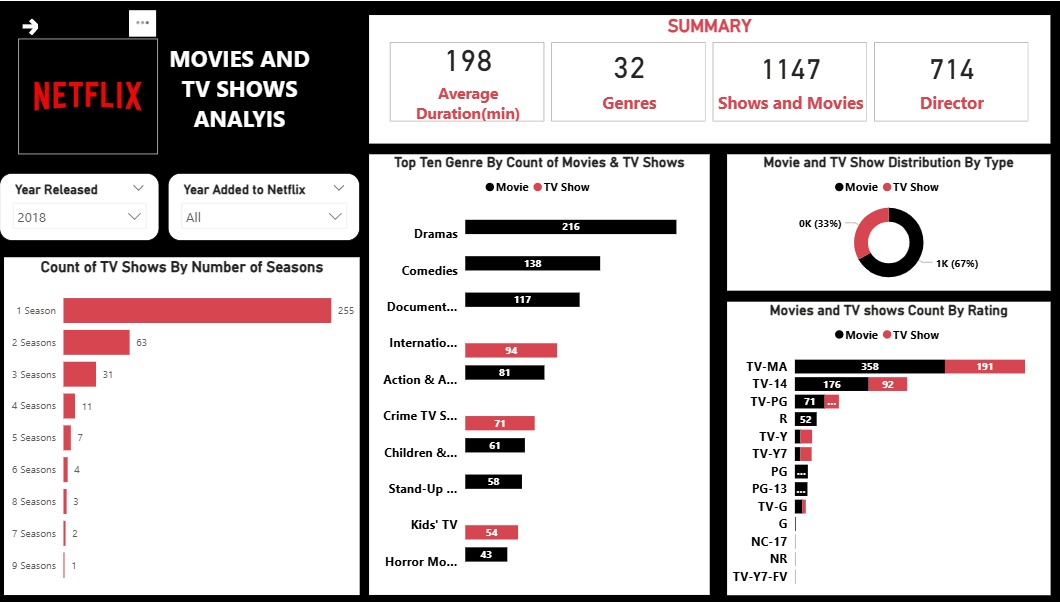

This screenshot's page, from the dashboard's own definition file:
{"tool":"powerbi","page":{"name":"Page 1","canvas":[1400,800],"ordinal":0},"visuals":[{"type":"textbox","box":[430,10,962.9,168.6],"z":0},{"type":"barChart","title":"Count of TV Shows By Number of Seasons","fields":{"Category":["netflix_titles.duration"],"Series":["netflix_titles.type"],"Y":["CountNonNull(netflix_titles.title)"]},"box":[9.2,341.5,407.7,446.2],"z":1000},{"type":"barChart","fields":{"Series":["netflix_titles.type"],"Category":["netflix_titles.listed_in"],"Y":["CountNonNull(netflix_titles.title)"]},"box":[430,190,481.4,598.6],"z":2000},{"type":"card","title":"Average Duration(Min)","fields":{"Values":["Avg(netflix_titles.Duration (Minutes))"]},"box":[452.4,59,225,105],"z":3000},{"type":"barChart","fields":{"Category":["netflix_titles.rating"],"Series":["netflix_titles.type"],"Y":["CountNonNull(netflix_titles.title)"]},"box":[923.9,400,469,385.9],"z":4000},{"type":"slicer","fields":{"Values":["netflix_titles.release_year"]},"box":[9.2,244.6,189.2,87.7],"z":5000},{"type":"slicer","fields":{"Values":["netflix_titles.date_added"]},"box":[203.1,244.6,213.8,87.7],"z":6000},{"type":"donutChart","fields":{"Y":["netflix_titles.Total Movies and Tv Shows"],"Category":["netflix_titles.type"]},"box":[923.9,188.7,469,201.4],"z":7000},{"type":"card","title":"Genres","fields":{"Values":["Count(netflix_titles.listed_in)"]},"box":[685.8,59,225,105],"z":8000},{"type":"card","title":"Shows and Movies","fields":{"Values":["netflix_titles.Total Movies and Tv Shows"]},"box":[920.8,59,225,105],"z":9000},{"type":"card","title":"Directors","fields":{"Values":["Count(netflix_titles.director)"]},"box":[1154.1,59,225,105],"z":10000},{"type":"image","box":[16.9,38.5,173.8,150.8],"z":11000},{"type":"textbox","box":[170.8,58.5,246.2,172.3],"z":12000},{"type":"actionButton","box":[17.1,10,50,48.6],"z":13000}]}

Visuals, with their boxes in screenshot pixels (x1, y1, x2, y2), scaled from the page's 1400x800 canvas onto the 1060x602 screenshot:
textbox: [326,8,1055,134]
"Count of TV Shows By Number of Seasons" barChart: [7,257,316,593]
barChart - netflix_titles.type x netflix_titles.listed_in: [326,143,690,593]
"Average Duration(Min)" card: [343,44,513,123]
barChart - netflix_titles.rating x netflix_titles.type: [700,301,1055,591]
slicer - netflix_titles.release_year: [7,184,150,250]
slicer - netflix_titles.date_added: [154,184,316,250]
donutChart - netflix_titles.Total Movies and Tv Shows x netflix_titles.type: [700,142,1055,294]
"Genres" card: [519,44,690,123]
"Shows and Movies" card: [697,44,868,123]
"Directors" card: [874,44,1044,123]
image: [13,29,144,142]
textbox: [129,44,316,174]
actionButton: [13,8,51,44]
